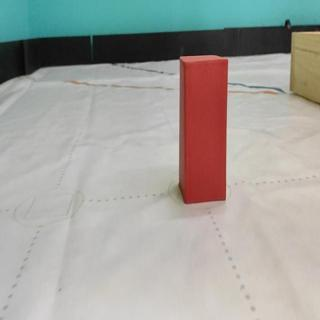redbox: (177, 54, 229, 203)
